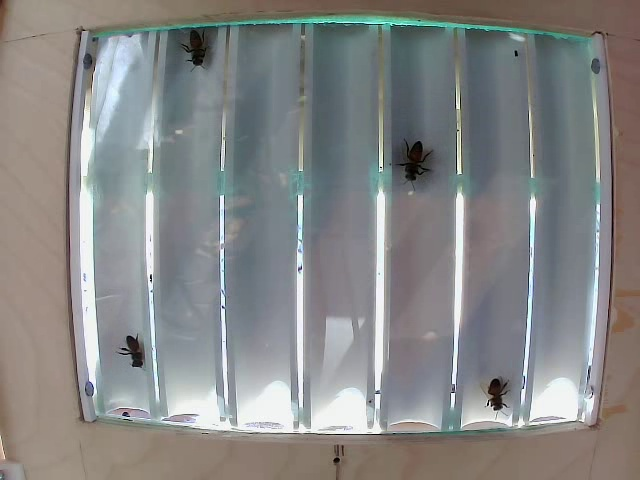bee: (479, 365, 527, 427), (390, 153, 436, 194), (176, 27, 218, 70), (118, 341, 169, 375)
